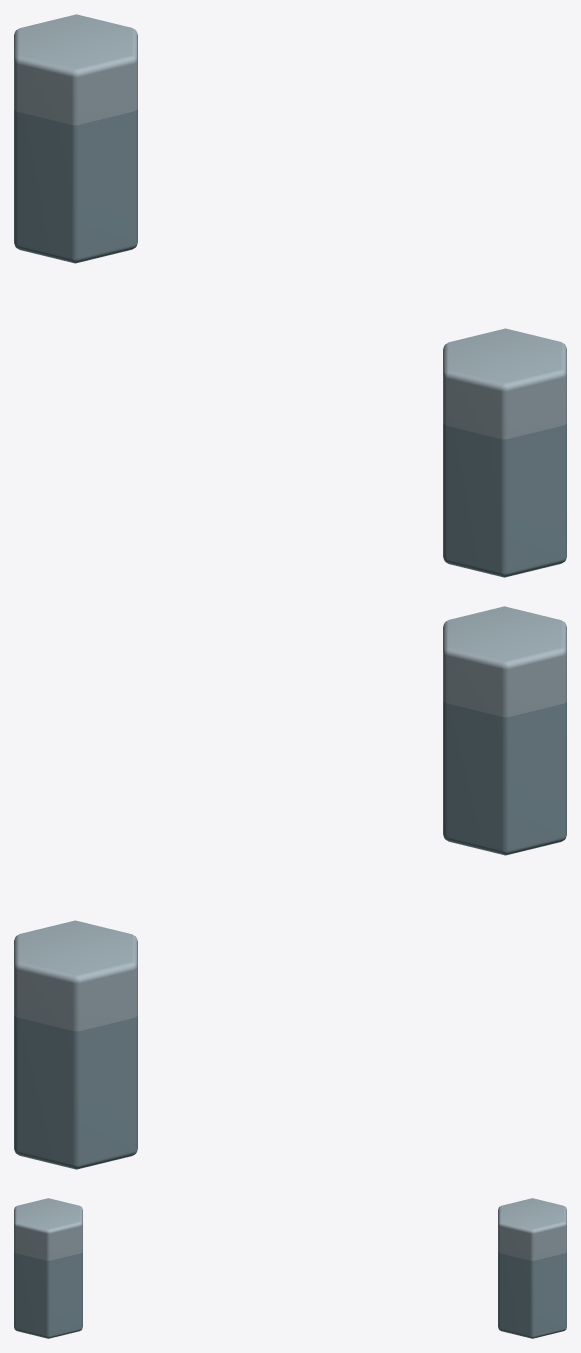
File: Props.fbx
3 views of the same model, one above another, from view 1: azimuth 30°, elevation 25°; view 2: azimuth 150°, elevation 25°; view 3: azimuth 270°, elevation 25° (orthographic). The views are drawn at different scales.
Parts seen in each view (by area): view 1: 六面体 (×2); view 2: 六面体 (×2); view 3: 六面体 (×2).
Part boxes in pixels (x1,y1,x2,y2): 六面体 (×2): (14, 14, 566, 577); 六面体 (×2): (14, 606, 566, 1169); 六面体 (×2): (14, 1198, 566, 1338).
Size of the model in its own units: 3.28 by 5 by 22.85.
Materials: 1 (1 with a texture image).
